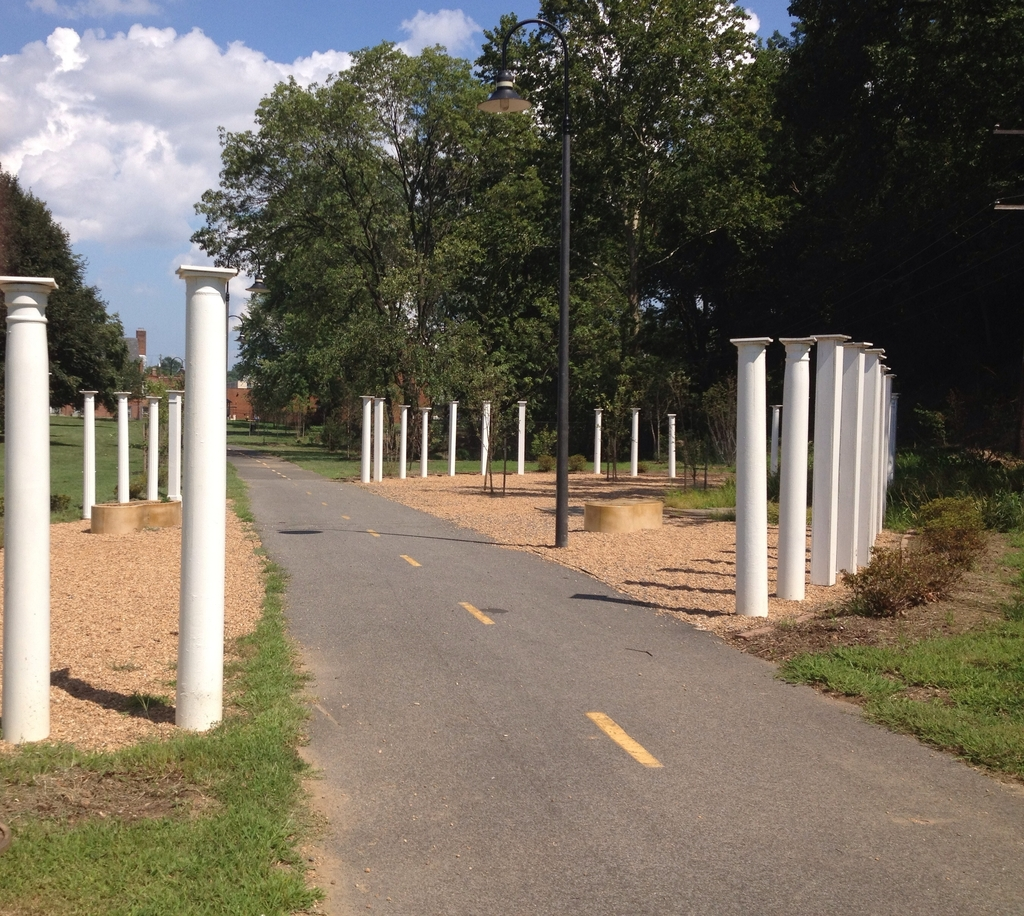Tree: (192, 42, 595, 459), (504, 11, 759, 501), (768, 0, 1023, 444), (0, 168, 141, 432)
